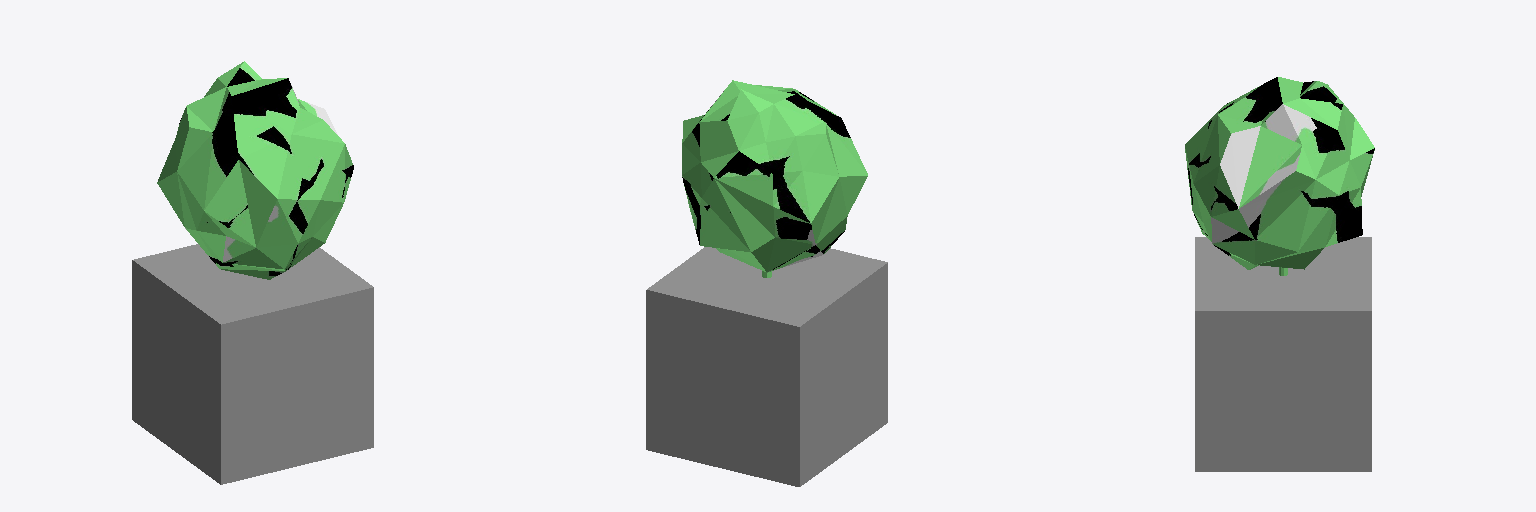
3 views of the same model, side by side, from view 1: azimuth 30°, elevation 25°; view 2: azimuth 150°, elevation 25°; view 3: azimuth 270°, elevation 25° (orthographic).
Parts seen in each view (by area): view 1: Cube, Icosphere.000_Icosphere.010; view 2: Cube, Icosphere.000_Icosphere.010; view 3: Cube, Icosphere.000_Icosphere.010.
Part boxes in pixels (x1,y1,x2,y2): Cube: (132, 244, 373, 484); Icosphere.000_Icosphere.010: (157, 61, 353, 279); Cube: (646, 247, 887, 486); Icosphere.000_Icosphere.010: (682, 80, 867, 277); Cube: (1195, 237, 1371, 471); Icosphere.000_Icosphere.010: (1185, 77, 1374, 275).
Bounding box in the file's own units: 2.03 × 4.46 × 2.16.
3 materials, 1 textured.